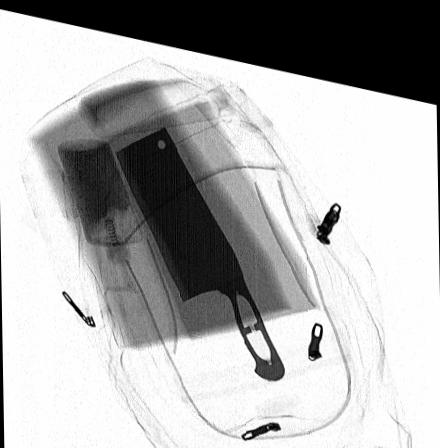Knife: (113, 116, 286, 367)
